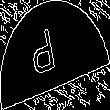P_S: (39, 26, 71, 84)
